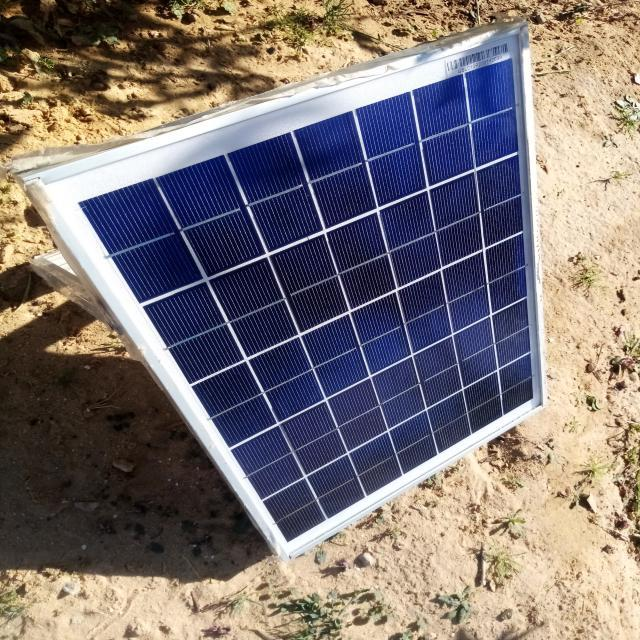no faulty: (33, 25, 550, 557)
